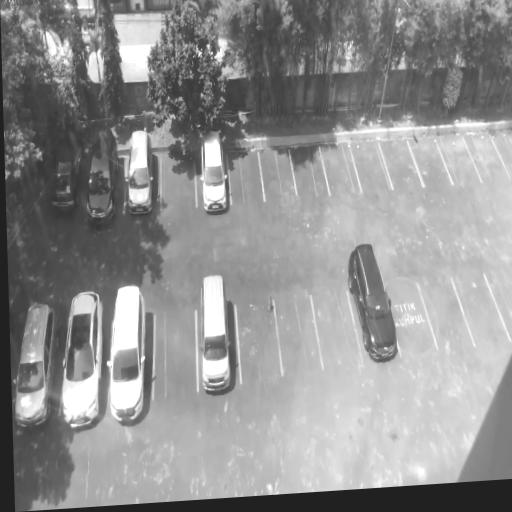Car: (343, 240, 402, 366), (58, 291, 104, 429), (13, 297, 59, 430), (107, 284, 147, 423), (198, 272, 234, 395), (49, 126, 88, 214), (124, 129, 154, 217), (200, 127, 229, 214)
Space Available: (311, 287, 362, 372), (272, 295, 324, 376), (236, 300, 284, 382), (386, 281, 439, 352), (82, 128, 121, 224), (155, 312, 197, 396), (463, 134, 512, 184), (436, 136, 483, 186), (350, 144, 395, 193), (380, 141, 424, 191), (409, 139, 454, 187), (161, 152, 197, 211), (259, 148, 298, 202), (320, 145, 362, 195), (288, 148, 330, 198), (227, 153, 266, 205), (490, 131, 512, 180)
